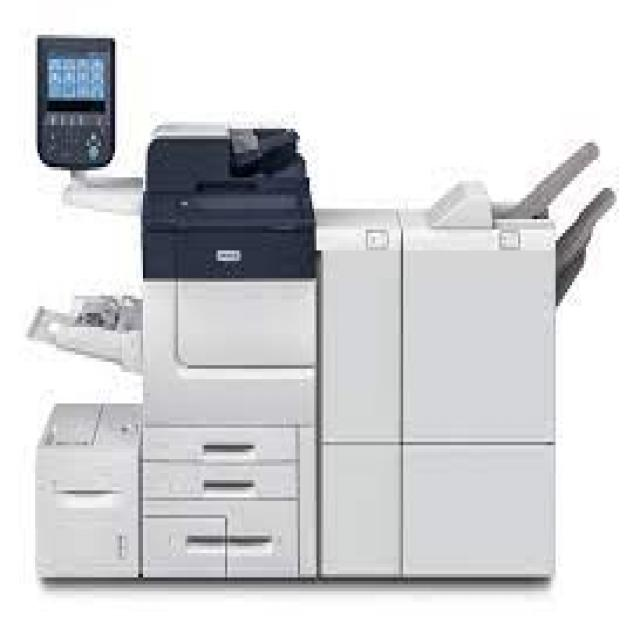printer: (16, 23, 630, 614)
